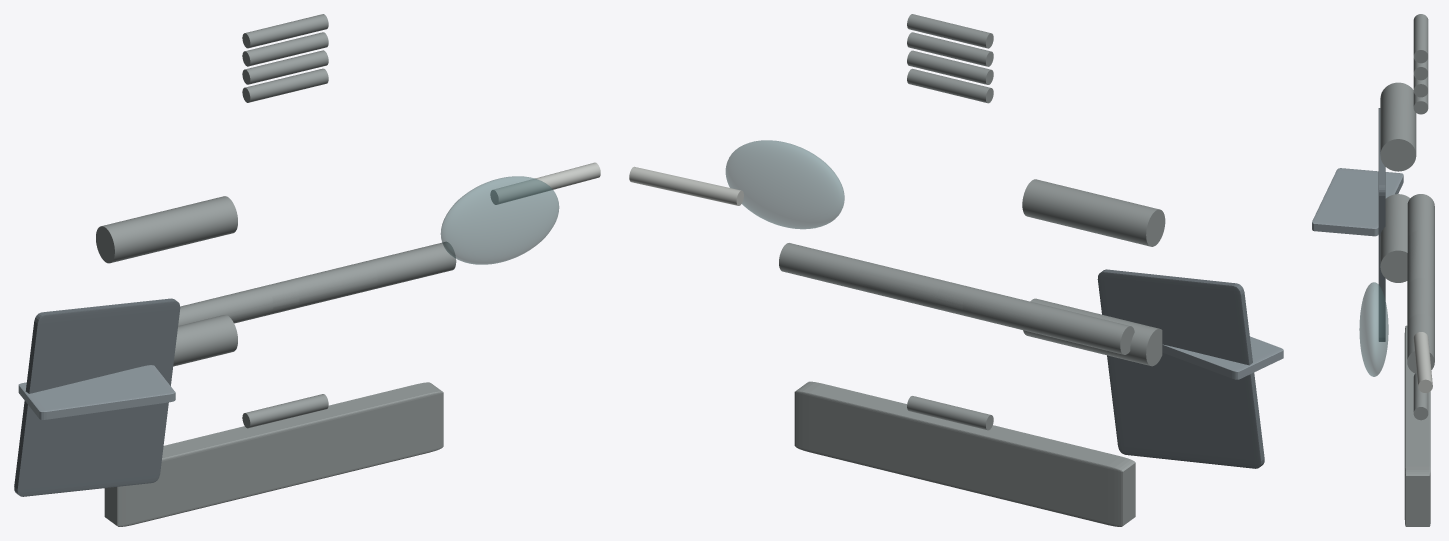
Rendered from s-u30-specter-aerial-artillery-lod2.glb.
The picture shows the model from 3 angles, left to right: view 1: azimuth 30°, elevation 25°; view 2: azimuth 150°, elevation 25°; view 3: azimuth 270°, elevation 25°; orthographic projection. The views are drawn at different scales.
Visible parts, largest first — view 1: artillery_pod_-1, combat_tailplane_-1, combat_canopy, combat_engine_1, combat_fin_-1, aerial_launcher_4, aerial_launcher_2, aerial_launcher_0, combat_engine_0, combat_gun_barrel_0, combat_1_tube_2, combat_1_tube_1 (+3 smaller); view 2: artillery_pod_-1, combat_tailplane_-1, combat_canopy, combat_engine_1, aerial_launcher_0, aerial_launcher_4, aerial_launcher_2, combat_engine_0, combat_fin_-1, combat_gun_barrel_0, combat_1_tube_2, combat_1_tube_1 (+3 smaller); view 3: combat_fin_-1, artillery_pod_-1, combat_engine_1, combat_engine_0, combat_canopy, aerial_launcher_0, aerial_launcher_2, combat_tailplane_-1, aerial_launcher_4, combat_gun_barrel_0, combat_1_tube_4, combat_-1_tube_4 (+3 smaller).
Part boxes in pixels (box(x1,y1,x2,y2)): artillery_pod_-1: box(104, 382, 443, 526); combat_tailplane_-1: box(14, 298, 180, 496); combat_canopy: box(440, 176, 559, 264); combat_engine_1: box(96, 196, 237, 263); combat_fin_-1: box(18, 365, 175, 419); aerial_launcher_4: box(264, 242, 456, 312); aerial_launcher_2: box(188, 261, 377, 322); aerial_launcher_0: box(178, 280, 299, 325); combat_engine_0: box(173, 315, 237, 366); combat_gun_barrel_0: box(490, 162, 600, 204); combat_1_tube_2: box(242, 50, 328, 84); combat_1_tube_1: box(242, 68, 328, 102); artillery_pod_-1: box(794, 381, 1135, 526); combat_tailplane_-1: box(1097, 269, 1264, 468); combat_canopy: box(725, 140, 844, 229); combat_engine_1: box(1022, 179, 1165, 246); aerial_launcher_0: box(936, 281, 1134, 354); aerial_launcher_4: box(779, 243, 970, 309); aerial_launcher_2: box(858, 264, 1049, 334); combat_engine_0: box(1023, 298, 1162, 366); combat_fin_-1: box(1162, 336, 1283, 379); combat_gun_barrel_0: box(629, 166, 743, 205); combat_1_tube_2: box(907, 50, 993, 84); combat_1_tube_1: box(907, 68, 993, 103); combat_fin_-1: box(1312, 168, 1403, 236); artillery_pod_-1: box(1404, 325, 1430, 526); combat_engine_1: box(1380, 82, 1416, 171); combat_engine_0: box(1380, 194, 1410, 282); combat_canopy: box(1359, 282, 1388, 376); aerial_launcher_0: box(1407, 194, 1434, 287); aerial_launcher_2: box(1407, 230, 1434, 323); combat_tailplane_-1: box(1378, 108, 1385, 341); aerial_launcher_4: box(1407, 297, 1434, 373); combat_gun_barrel_0: box(1413, 332, 1432, 392); combat_1_tube_4: box(1413, 14, 1428, 63); combat_-1_tube_4: box(1413, 373, 1428, 420).
Size of what is drawn, in the model's own units: 14.95 by 10.78 by 2.8.
